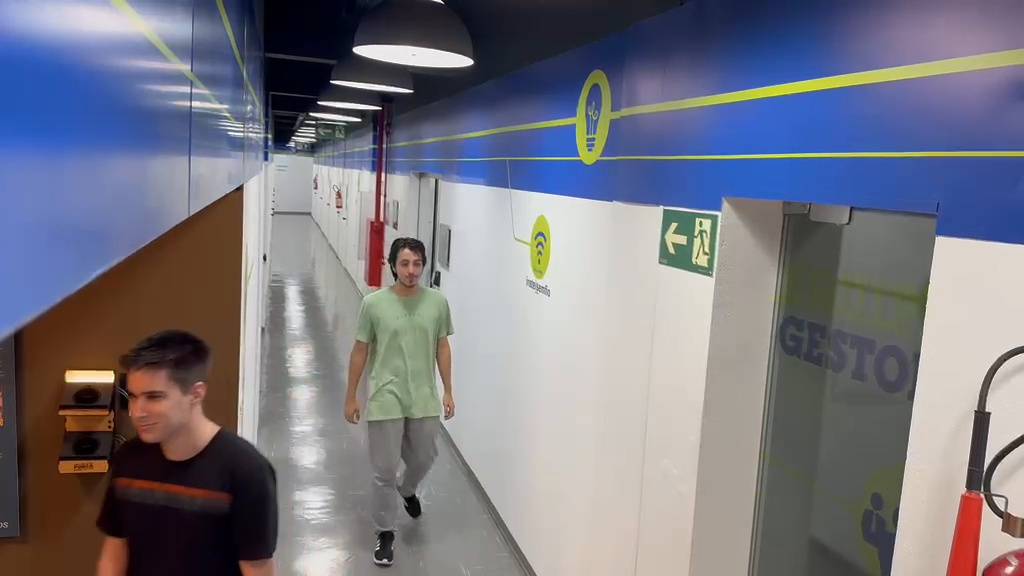person: (93, 329, 280, 572), (343, 235, 457, 565)
